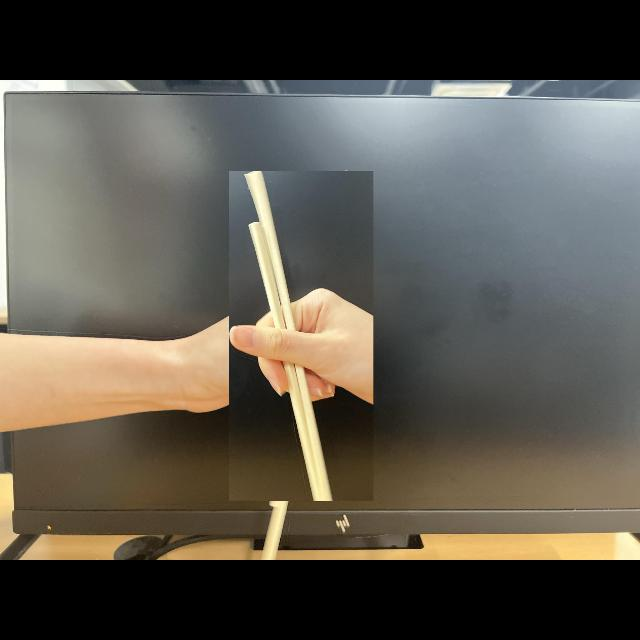stick: (229, 171, 373, 501)
